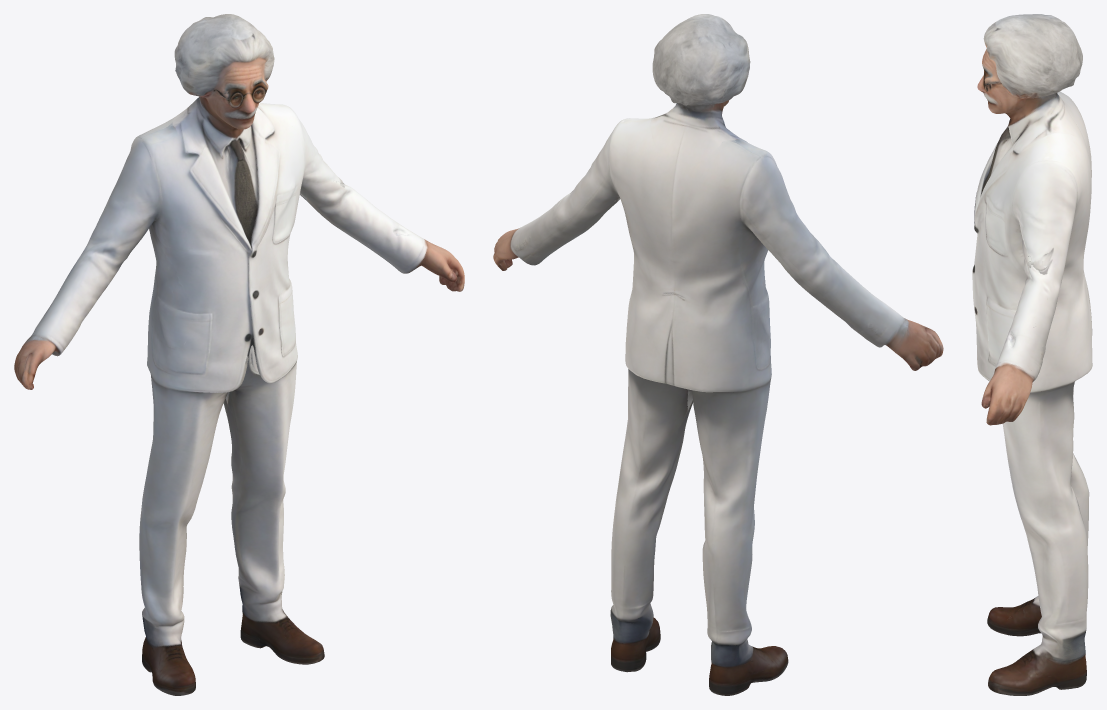
Rendered from professor_einstein.glb.
The picture shows the model from 3 angles, left to right: view 1: azimuth 30°, elevation 25°; view 2: azimuth 150°, elevation 25°; view 3: azimuth 270°, elevation 25°; orthographic projection.
Visible parts, largest first — view 1: tmpm_soh6x8.ply_Material.001_0; view 2: tmpm_soh6x8.ply_Material.001_0; view 3: tmpm_soh6x8.ply_Material.001_0.
Part boxes in pixels (<box>): tmpm_soh6x8.ply_Material.001_0: <box>14,14,464,695</box>; tmpm_soh6x8.ply_Material.001_0: <box>493,14,943,695</box>; tmpm_soh6x8.ply_Material.001_0: <box>972,14,1092,695</box>.
Bounding box in the file's own units: 1.43 × 2 × 0.3404.
Materials: 1 (1 with a texture image).
